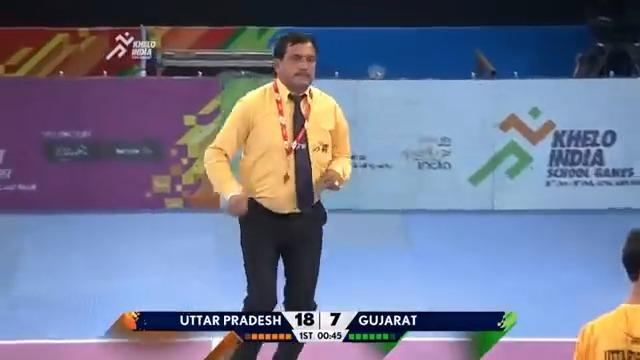Player: (572, 227, 639, 359)
referee: (202, 31, 352, 358), (570, 0, 639, 78)
